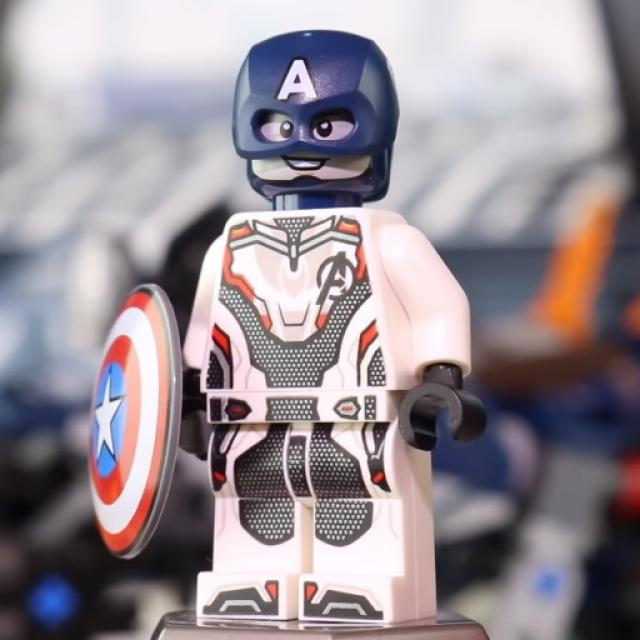Lego-Minifigures: (62, 15, 539, 636)
